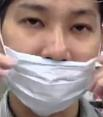mask_weared_incorrect: (1, 1, 103, 117)
